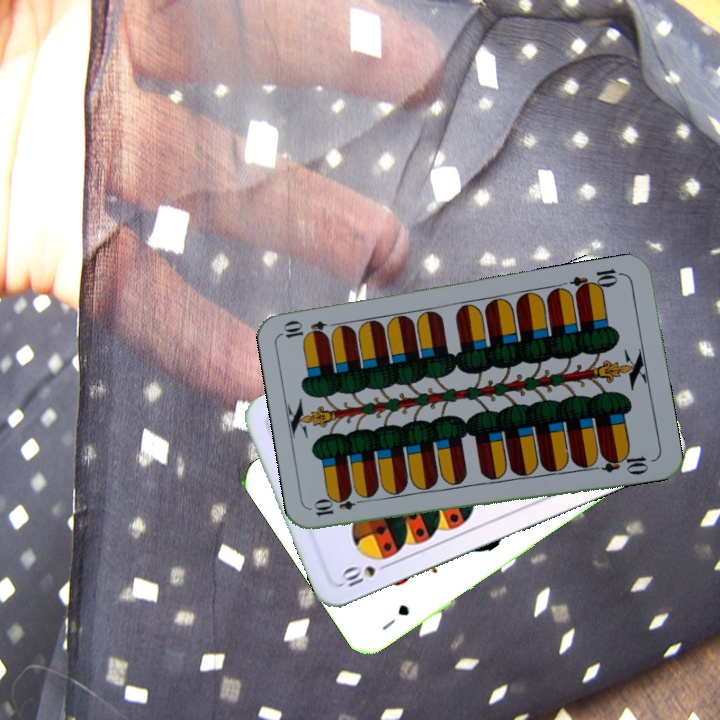E10: (567, 264, 626, 297), (310, 493, 369, 519)
GU: (377, 600, 412, 633)
S10: (336, 558, 394, 590)
